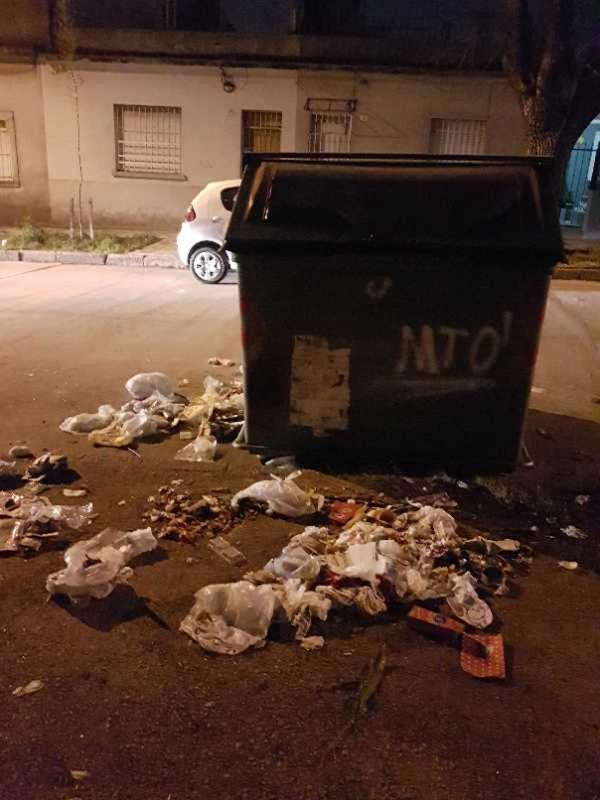Dechets: (229, 472, 521, 679), (0, 445, 157, 607), (60, 366, 242, 463), (142, 478, 245, 561), (179, 579, 279, 656)
Trash: (225, 154, 564, 474)
